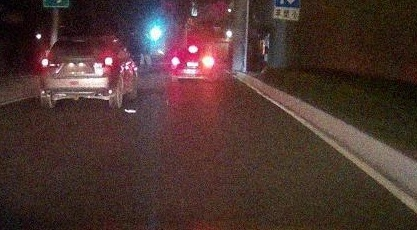L_light: (41, 59, 61, 68), (172, 59, 180, 63)
R_light: (96, 56, 117, 65), (204, 59, 214, 64)
T_light: (189, 47, 198, 50), (75, 42, 85, 44)
night-no: (39, 35, 118, 109)
night-right: (171, 44, 215, 83)
